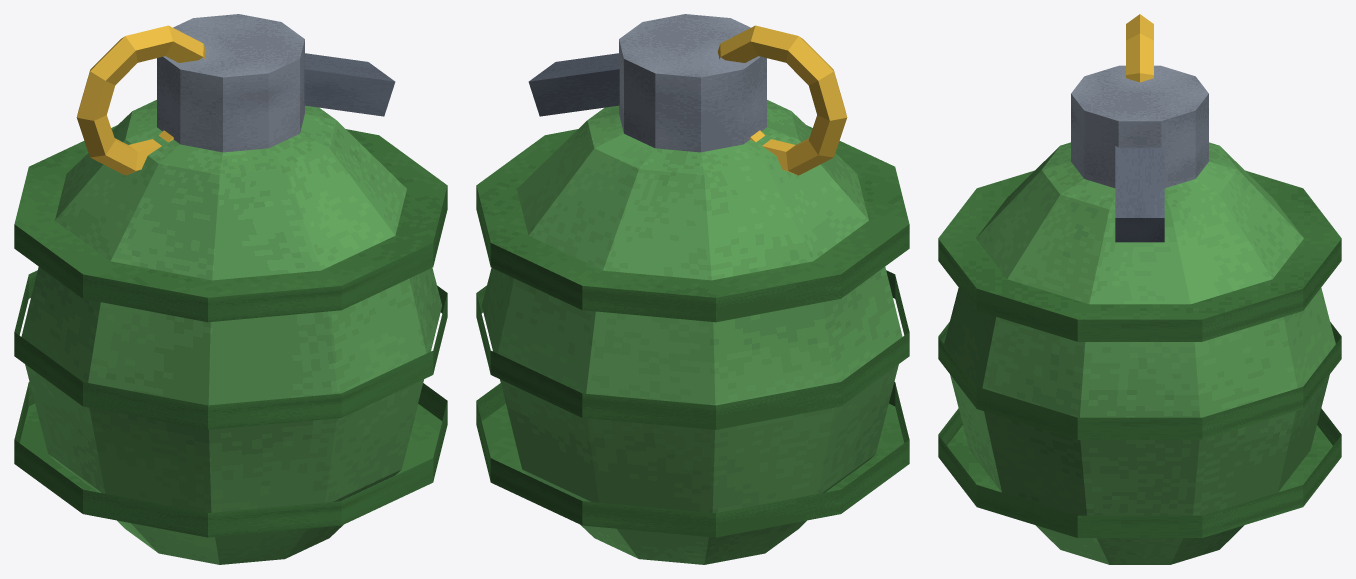
The model's file is pickup_grenade.glb.
The picture shows the model from 3 angles, left to right: view 1: azimuth 30°, elevation 25°; view 2: azimuth 150°, elevation 25°; view 3: azimuth 270°, elevation 25°; orthographic projection. The views are drawn at different scales.
Visible parts, largest first — view 1: pickup_grenade; view 2: pickup_grenade; view 3: pickup_grenade.
Part boxes in pixels (left/top/right/bottom): pickup_grenade: left=14, top=14, right=447, bottom=564; pickup_grenade: left=476, top=14, right=909, bottom=564; pickup_grenade: left=938, top=14, right=1341, bottom=564.
Bounding box in the file's own units: 0.7799 × 1.1 × 0.82.
1 material, 1 textured.
